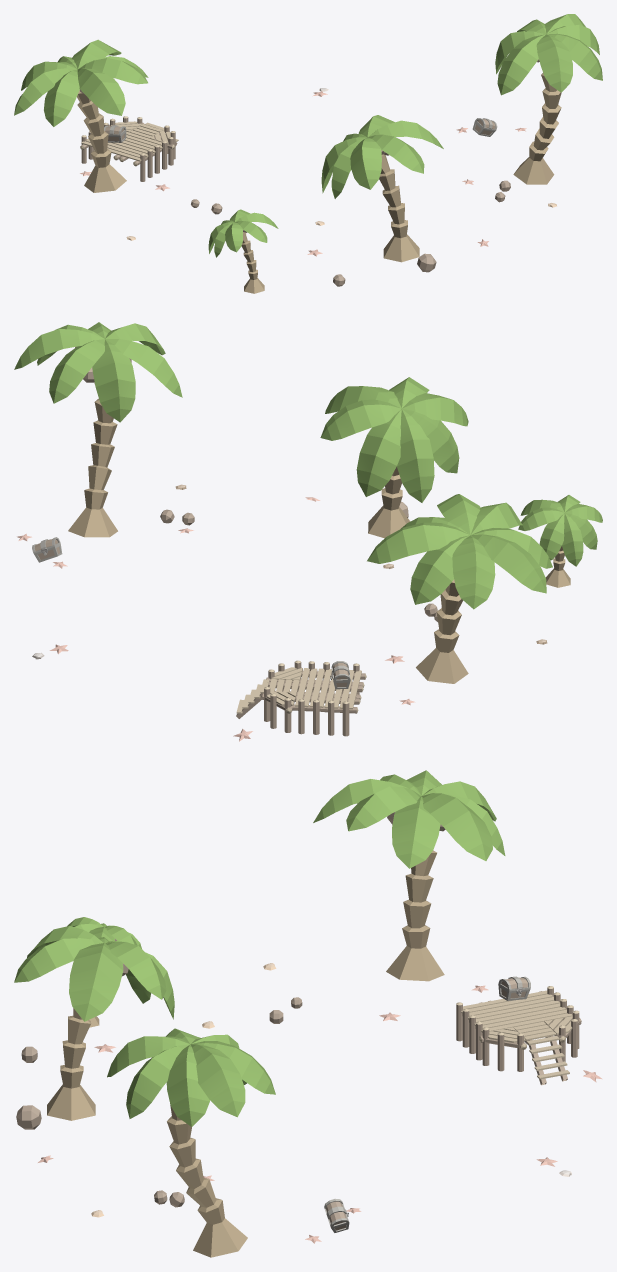
Rendered from beach.glb.
The picture shows the model from 3 angles, top to bottom: view 1: azimuth 30°, elevation 25°; view 2: azimuth 150°, elevation 25°; view 3: azimuth 270°, elevation 25°; orthographic projection. The views are drawn at different scales.
Visible parts, largest first — view 1: tree.005, tree, tree.002, object2.002, tree.004; view 2: tree.005, tree.002, tree, object2.002, tree.004; view 3: tree, tree.005, tree.002, object2.002, tree.004, object2, object2.001.
Part boxes in pixels (left/top/right/bottom): tree.005: left=14, top=39, right=148, bottom=192; tree: left=495, top=14, right=602, bottom=184; tree.002: left=321, top=115, right=443, bottom=262; object2.002: left=80, top=116, right=178, bottom=181; tree.004: left=208, top=209, right=278, bottom=293; tree.005: left=367, top=494, right=552, bottom=683; tree.002: left=320, top=377, right=468, bottom=538; tree: left=14, top=322, right=182, bottom=537; object2.002: left=236, top=660, right=366, bottom=736; tree.004: left=518, top=495, right=602, bottom=587; tree: left=107, top=1028, right=275, bottom=1257; tree.005: left=313, top=770, right=505, bottom=981; tree.002: left=14, top=926, right=174, bottom=1120; object2.002: left=456, top=986, right=581, bottom=1085; tree.004: left=67, top=917, right=141, bottom=1027; object2: left=498, top=976, right=530, bottom=1000; object2.001: left=324, top=1198, right=349, bottom=1232.
Bounding box in the file's own units: 31.24 × 9.8 × 23.36.
